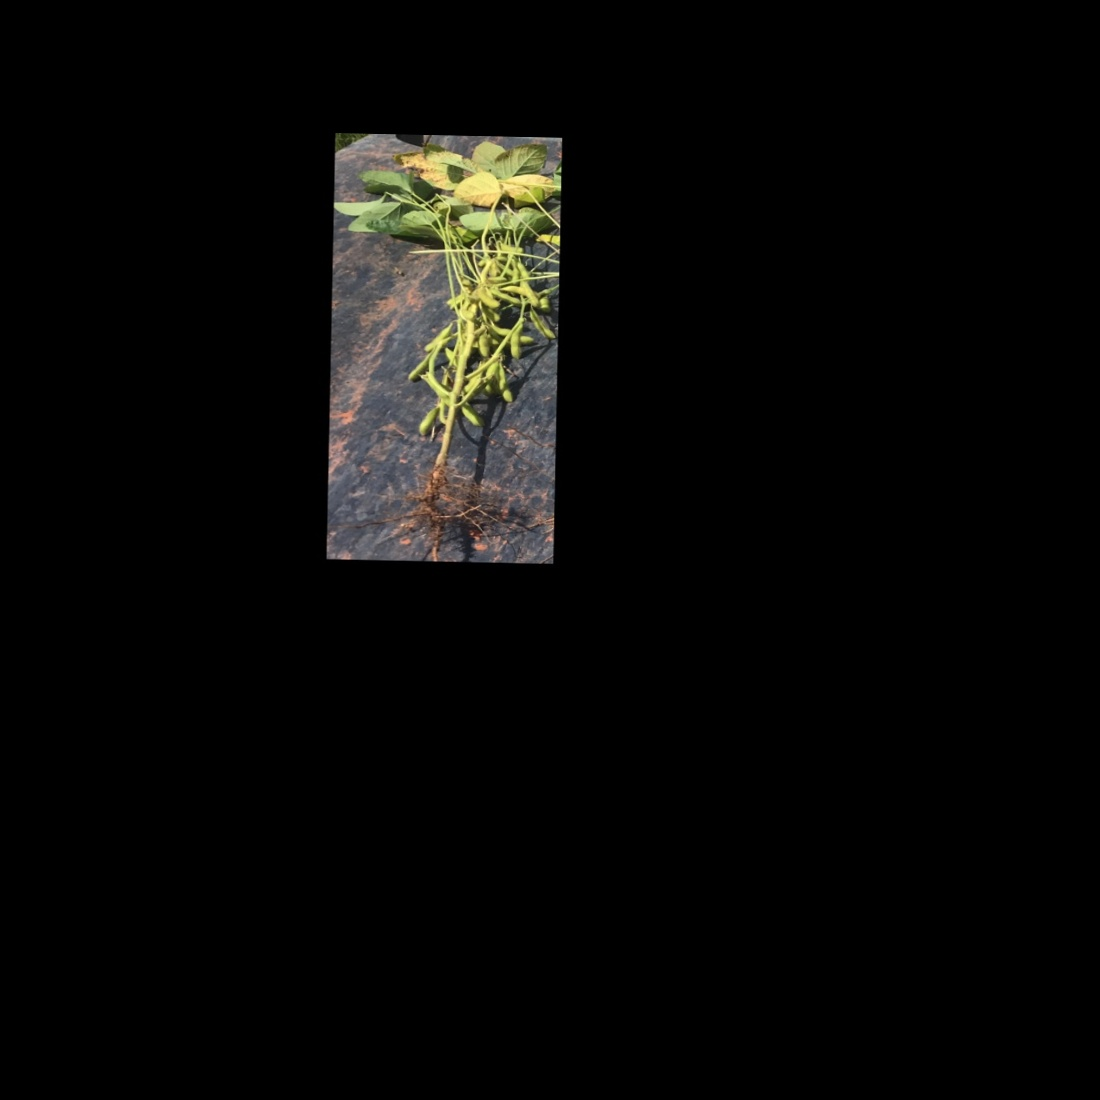pod: (523, 308, 558, 341), (416, 402, 442, 440), (422, 322, 452, 353), (404, 351, 431, 383), (507, 323, 528, 362), (523, 278, 543, 308)
soy: (335, 137, 560, 549)
